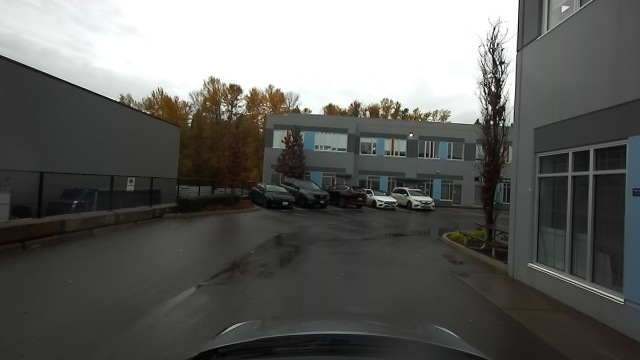car: (291, 179, 326, 211), (330, 183, 365, 214), (255, 184, 290, 212), (399, 186, 436, 212), (369, 188, 397, 214)
